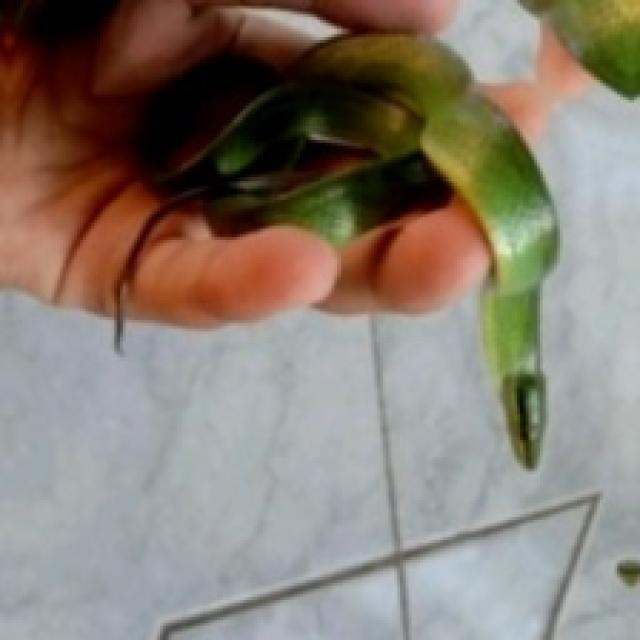red-tailed green ratsnake: (114, 34, 554, 466)
